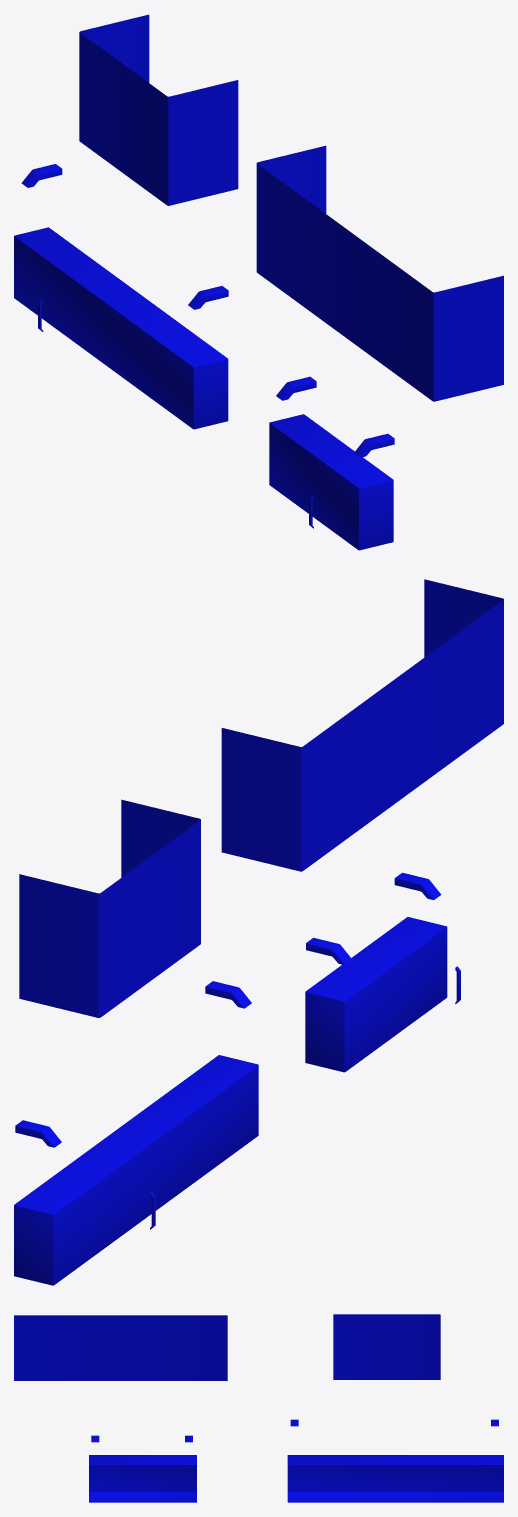
File: Storage_1_LowEXP.FBX
3 views of the same model, one above another, from view 1: azimuth 30°, elevation 25°; view 2: azimuth 150°, elevation 25°; view 3: azimuth 270°, elevation 25° (orthographic). The views are drawn at different scales.
Parts seen in each view (by area): view 1: Drawers_Large, Cabinet_Overhead_2.5_Low_EXP, Drawers_Small, Cabinet_Overhead_1.25_Low_EXP; view 2: Drawers_Large, Cabinet_Overhead_2.5_Low_EXP, Drawers_Small, Cabinet_Overhead_1.25_Low_EXP; view 3: Drawers_Large, Cabinet_Overhead_2.5_Low_EXP, Drawers_Small, Cabinet_Overhead_1.25_Low_EXP.
Boxes of the visible parts, x1,y1,x2,y2 form: Drawers_Large: (256, 145, 503, 401); Cabinet_Overhead_2.5_Low_EXP: (14, 164, 228, 429); Drawers_Small: (79, 14, 238, 205); Cabinet_Overhead_1.25_Low_EXP: (269, 376, 394, 550); Drawers_Large: (221, 579, 503, 871); Cabinet_Overhead_2.5_Low_EXP: (14, 981, 258, 1285); Drawers_Small: (19, 799, 200, 1017); Cabinet_Overhead_1.25_Low_EXP: (305, 872, 460, 1072); Drawers_Large: (14, 1315, 227, 1380); Cabinet_Overhead_2.5_Low_EXP: (287, 1419, 503, 1502); Drawers_Small: (333, 1314, 440, 1379); Cabinet_Overhead_1.25_Low_EXP: (89, 1435, 196, 1502).
Bounding box in the file's own units: 36.1 × 91.24 × 223.
